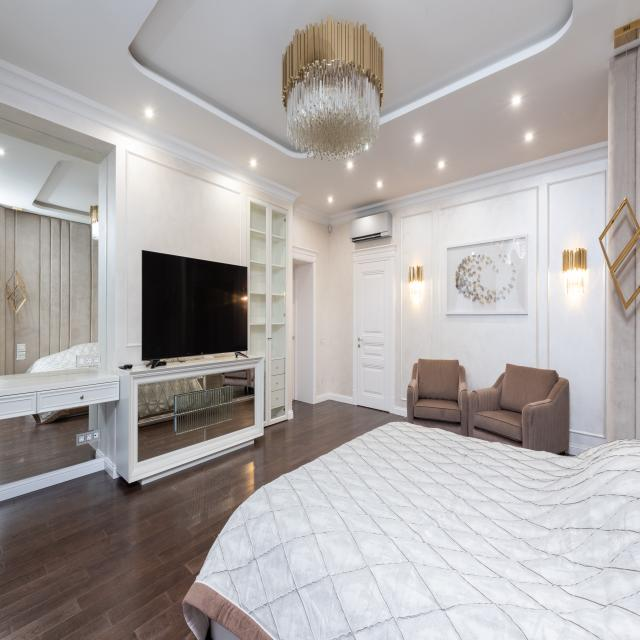floor: (0, 399, 407, 640), (556, 451, 576, 457)
wall: (0, 83, 293, 420), (355, 175, 538, 409), (537, 158, 608, 456), (429, 235, 528, 315), (293, 213, 330, 397), (607, 46, 640, 228), (607, 265, 640, 443), (329, 222, 355, 398), (296, 263, 313, 404), (601, 204, 638, 267), (613, 232, 640, 303)
